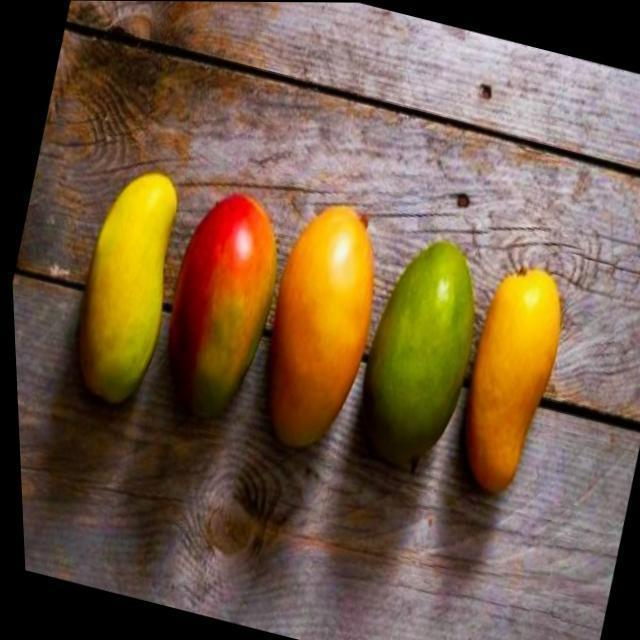Mango: (274, 204, 380, 436), (172, 194, 276, 413), (82, 170, 178, 398), (470, 262, 566, 486), (376, 240, 470, 440)
